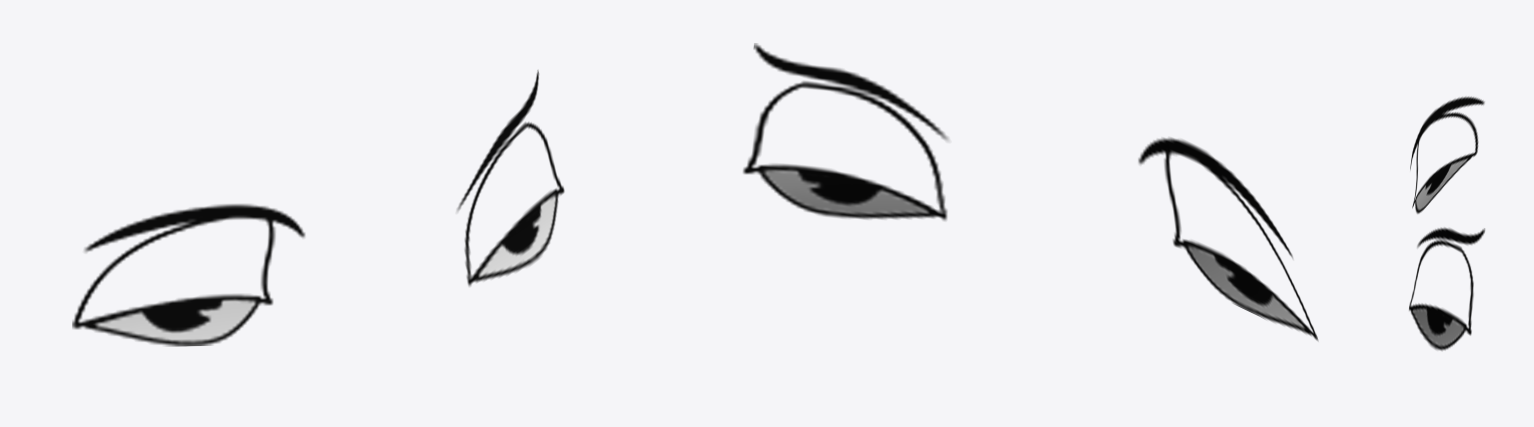
Rendered from Nonplussed.gltf.
3 views of the same model, side by side, from view 1: azimuth 30°, elevation 25°; view 2: azimuth 150°, elevation 25°; view 3: azimuth 270°, elevation 25° (orthographic). The views are drawn at different scales.
Parts seen in each view (by area): view 1: eyes5; view 2: eyes5; view 3: eyes5.
Part boxes in pixels (x1,y1,x2,y2): eyes5: (72, 70, 564, 346); eyes5: (743, 43, 1318, 340); eyes5: (1409, 96, 1484, 350).
Size of the model in its own units: 6.44 by 2.52 by 1.45.
Materials: 1 (1 with a texture image).
